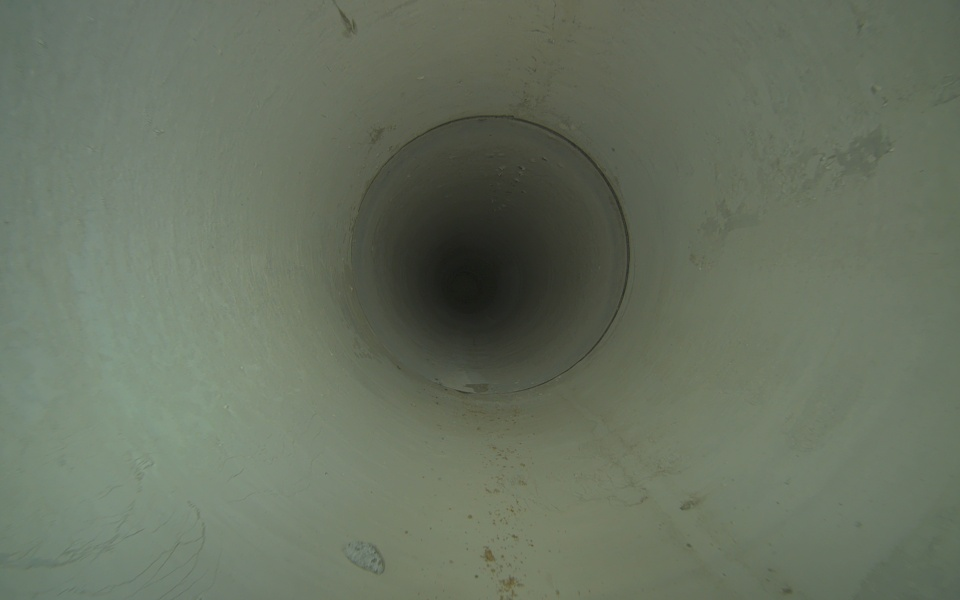circle1: (347, 114, 632, 399)
circle2: (444, 257, 499, 312)
